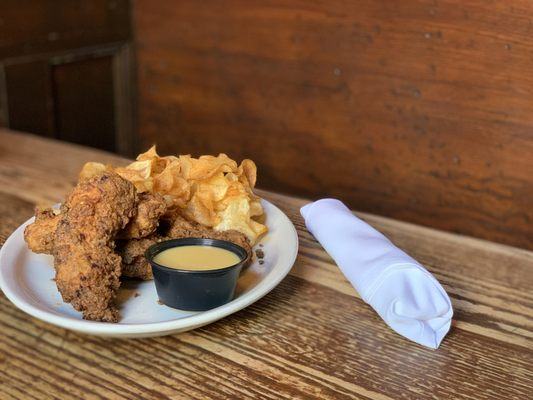sushi: (146, 238, 249, 312)
